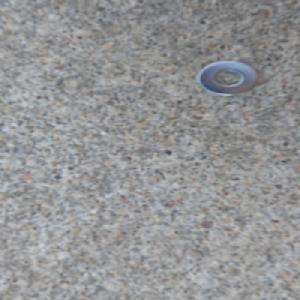Washer: (193, 59, 261, 98)
